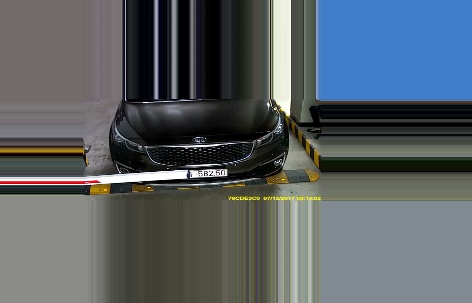plate: (187, 165, 229, 180)
